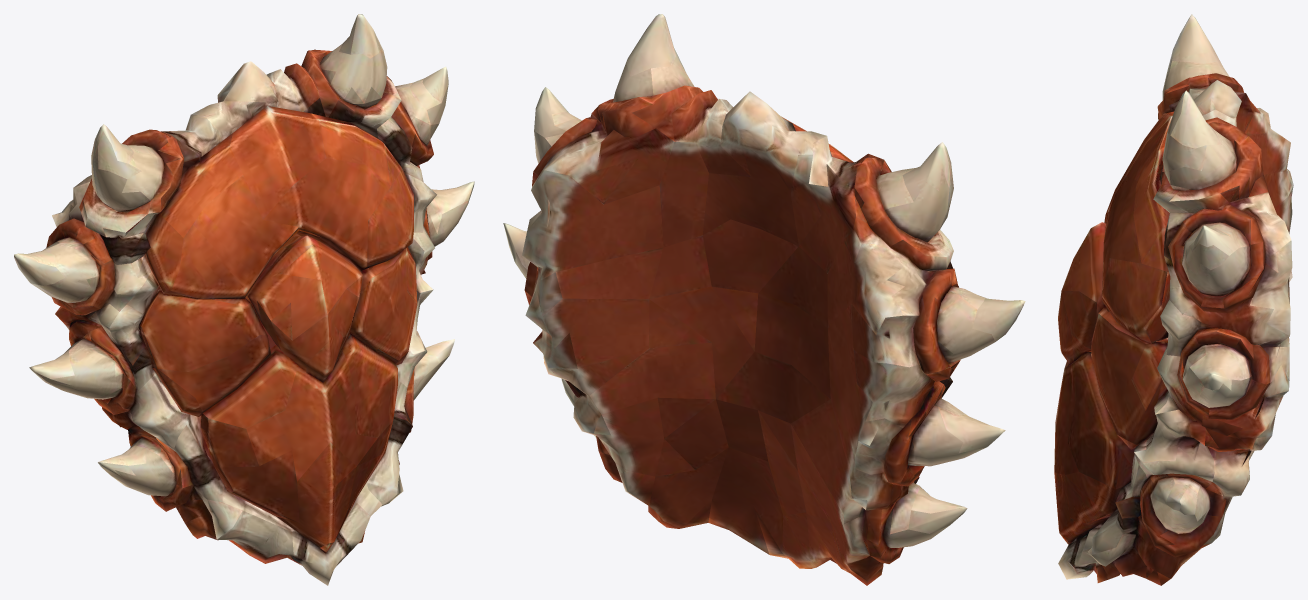
The model's file is crab_greatshield.glb.
3 renders of one model, left to right at view 1: azimuth 30°, elevation 25°; view 2: azimuth 150°, elevation 25°; view 3: azimuth 270°, elevation 25°, orthographic. The views are drawn at different scales.
Size of the model in its own units: 1.9 by 2 by 0.812.
1 material, 1 textured.
